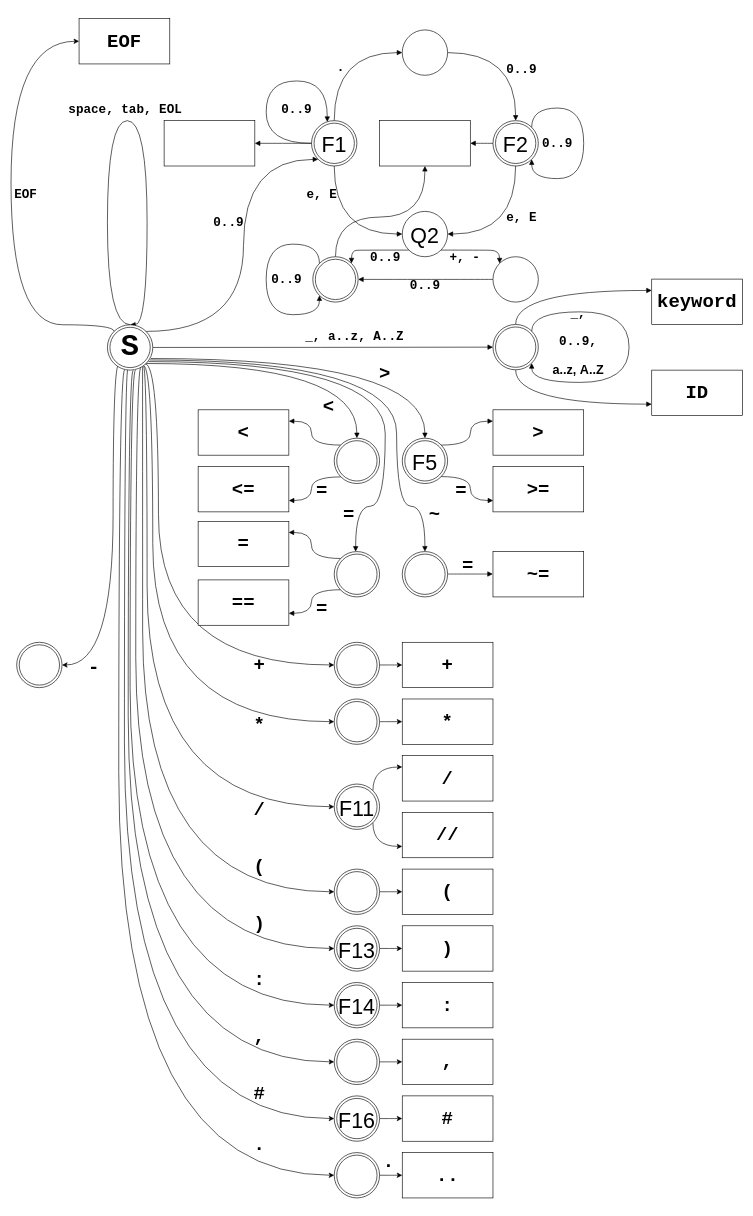
Some shapes in this 753 by 1216 pixel diagram are drawn without their labels. Here are the shapes that lost their labels. From the top down, the box of each, then its label:
(402, 29, 448, 75): Q1
(163, 120, 255, 166): integer
(379, 120, 470, 166): number
(312, 256, 358, 302): F3
(492, 256, 538, 302): Q3
(492, 324, 538, 370): F4
(334, 438, 380, 484): F6
(334, 551, 380, 597): F8
(402, 551, 448, 597): F7
(16, 642, 62, 688): F18
(334, 642, 380, 688): F9
(334, 698, 380, 744): F10
(334, 868, 380, 914): F12
(334, 1039, 380, 1085): F15
(334, 1152, 380, 1198): F17
